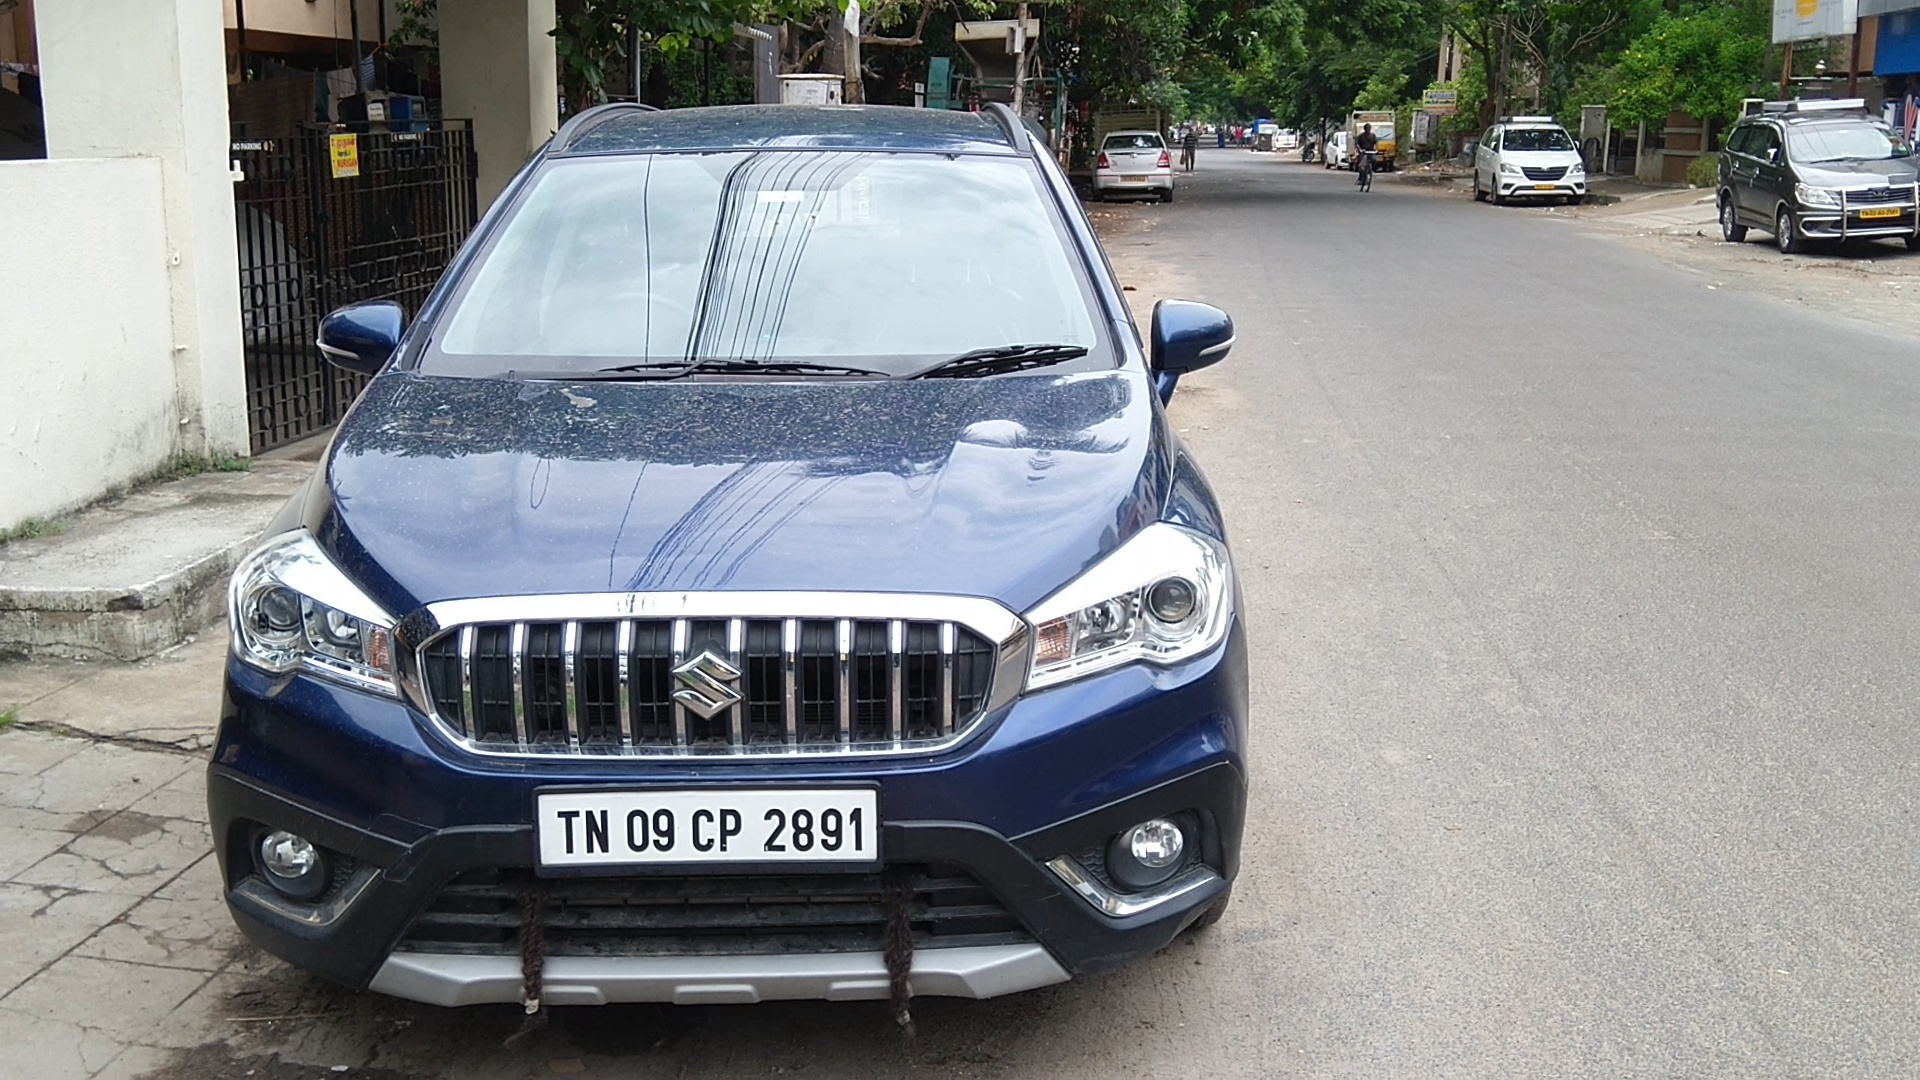front_grill: (396, 588, 1030, 783)
headlamp: (1030, 506, 1236, 717), (229, 521, 397, 699)
